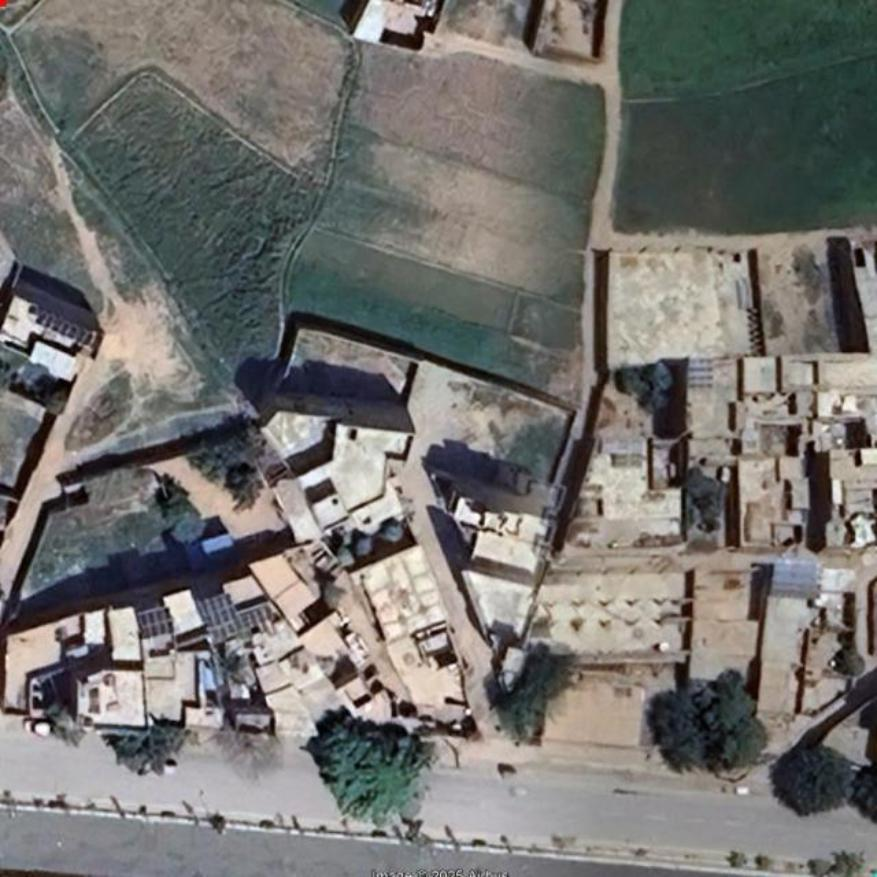Solarpanel: (202, 592, 244, 640), (136, 609, 174, 638), (236, 603, 273, 630)
